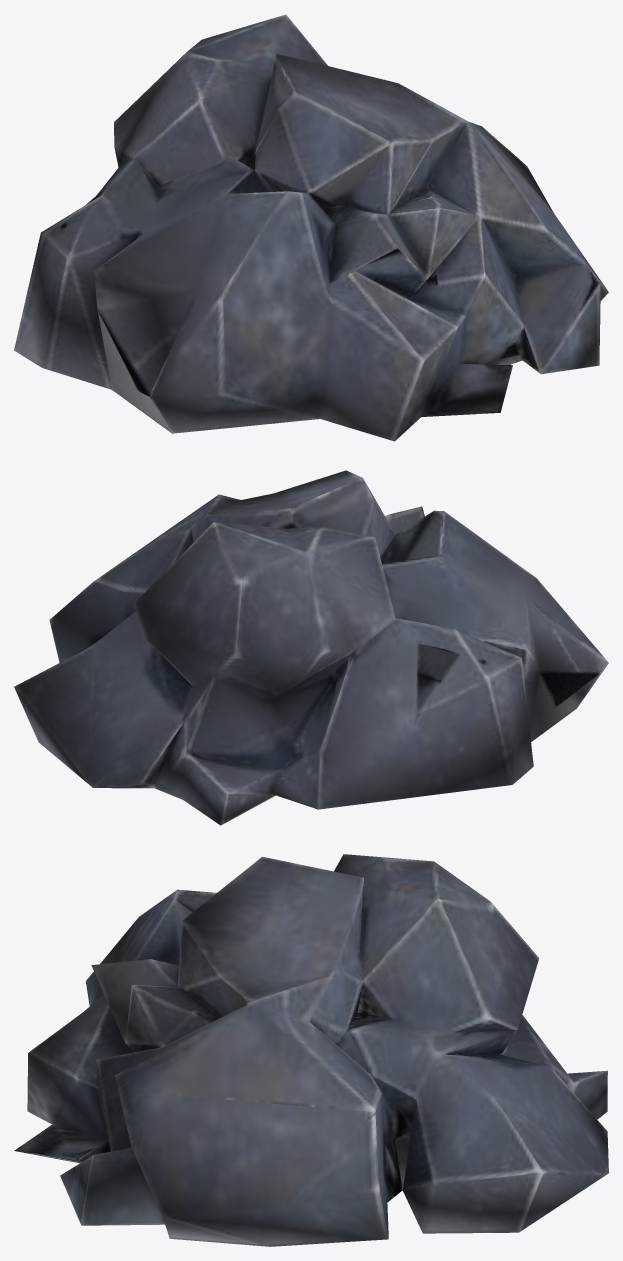
Rendered from rock-cluster.glb.
3 renders of one model, top to bottom at view 1: azimuth 30°, elevation 25°; view 2: azimuth 150°, elevation 25°; view 3: azimuth 270°, elevation 25°, orthographic. The views are drawn at different scales.
Size of the model in its own units: 2 by 0.9916 by 1.98.
Materials: 1 (1 with a texture image).
